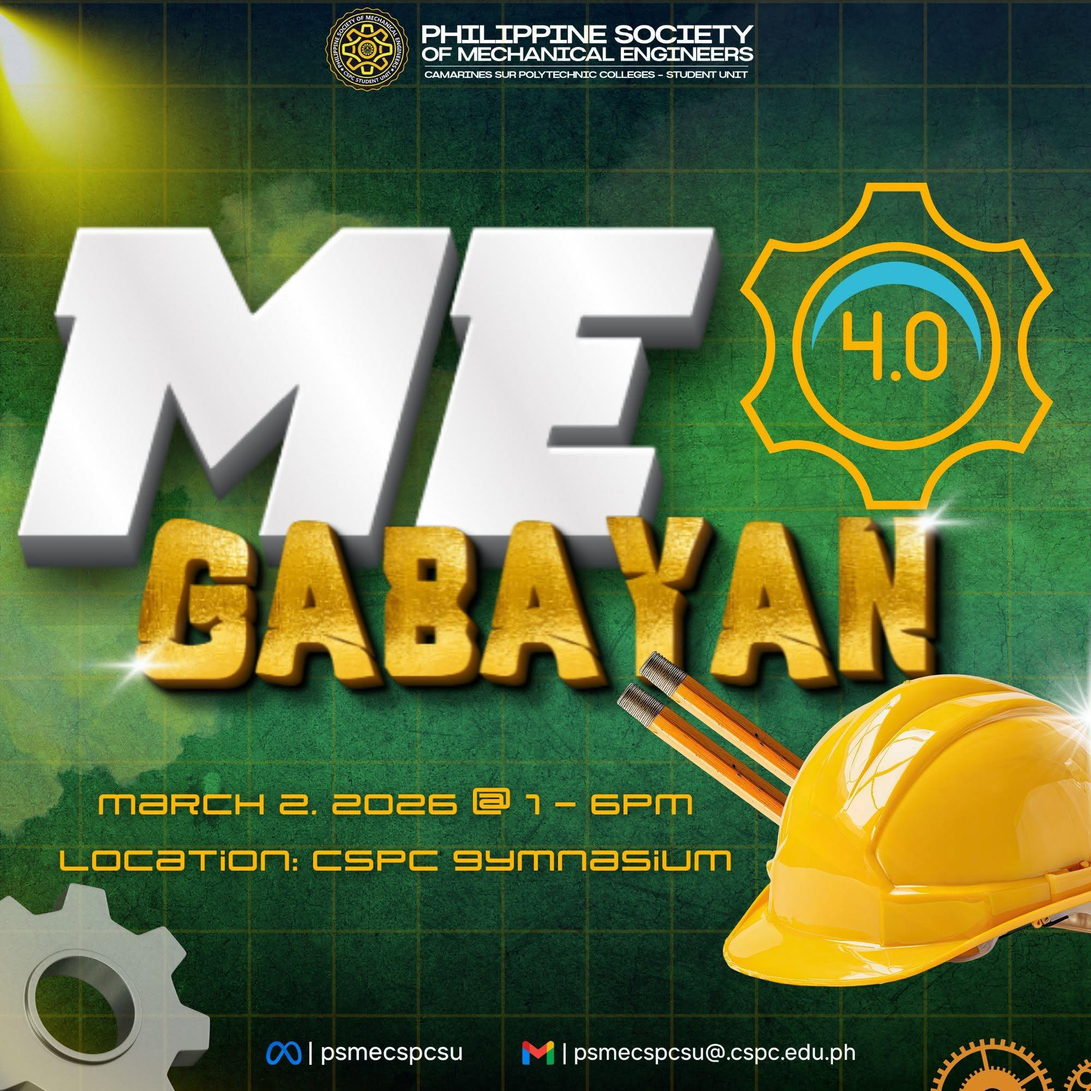embellishment: (610, 646, 1088, 997), (740, 182, 1054, 509), (0, 882, 211, 1091), (930, 1038, 1056, 1091), (256, 1033, 311, 1068), (509, 1033, 560, 1068)
logo: (313, 0, 412, 95)
text: (3, 207, 944, 683), (51, 778, 740, 884), (416, 13, 761, 92), (571, 1042, 861, 1067), (309, 1040, 474, 1073)
